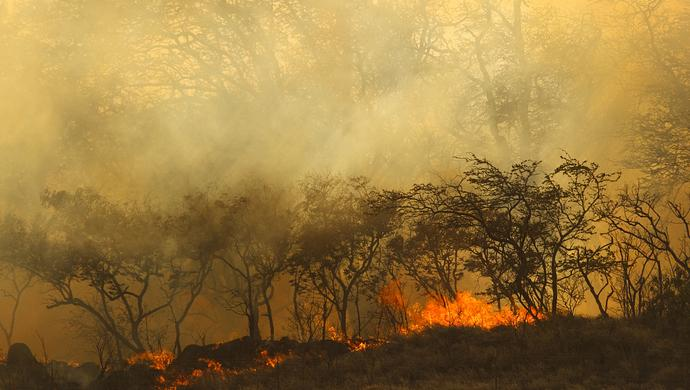fire: (392, 283, 542, 329), (138, 338, 236, 384)
smoke: (142, 27, 529, 168), (15, 56, 115, 353), (545, 17, 645, 167)
